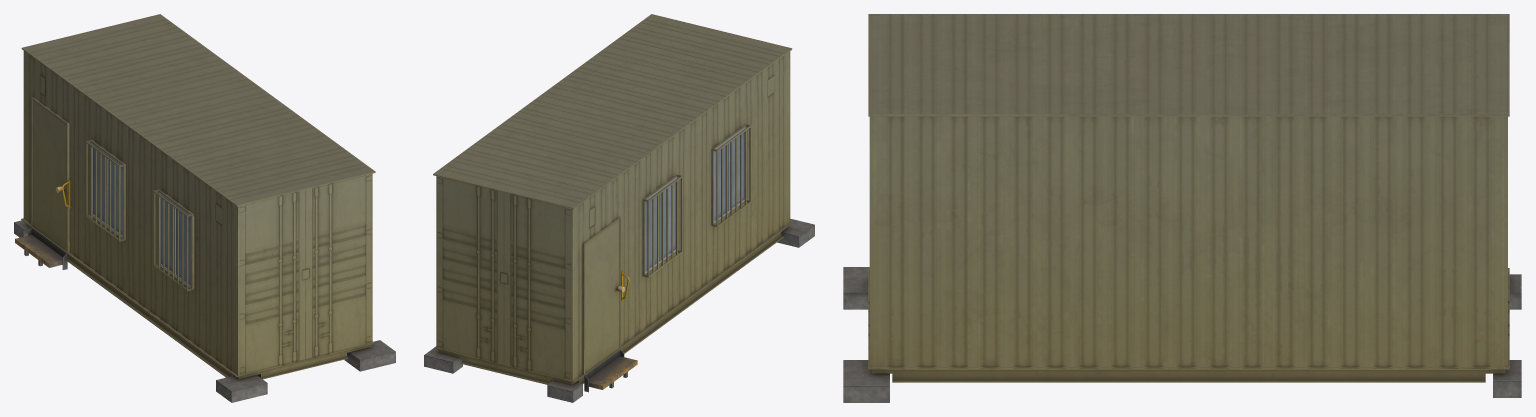
The model's file is Container 01.fbx.
3 views of the same model, side by side, from view 1: azimuth 30°, elevation 25°; view 2: azimuth 150°, elevation 25°; view 3: azimuth 270°, elevation 25° (orthographic). The views are drawn at different scales.
Visible parts, largest first — view 1: plt-zone-container.002_low_plt-zone-container_0; view 2: plt-zone-container.002_low_plt-zone-container_0; view 3: plt-zone-container.002_low_plt-zone-container_0.
Boxes of the visible parts, x1,y1,x2,y2 form: plt-zone-container.002_low_plt-zone-container_0: (14, 14, 395, 402); plt-zone-container.002_low_plt-zone-container_0: (424, 14, 814, 402); plt-zone-container.002_low_plt-zone-container_0: (843, 14, 1521, 402).
Size of the model in its own units: 371 by 397 by 872.
Materials: 1 (1 with a texture image).
